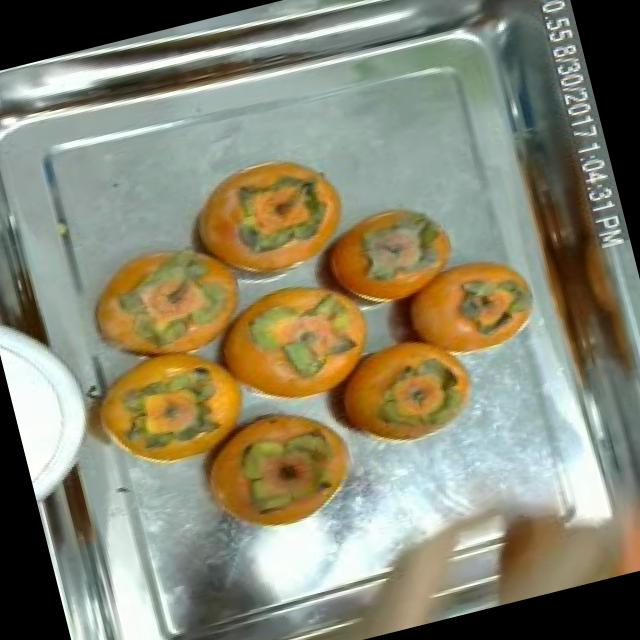Fruit: (172, 382, 384, 560), (183, 258, 400, 431), (63, 216, 274, 387), (292, 322, 500, 482), (70, 338, 272, 498)
